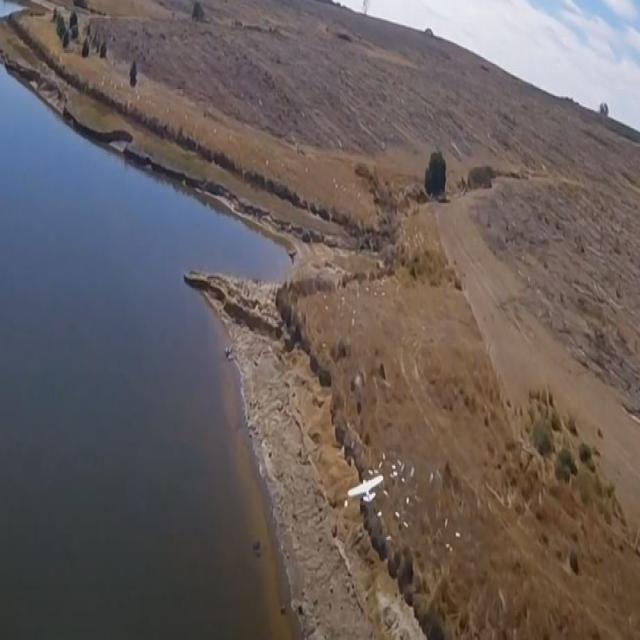iha: (347, 472, 384, 506)
